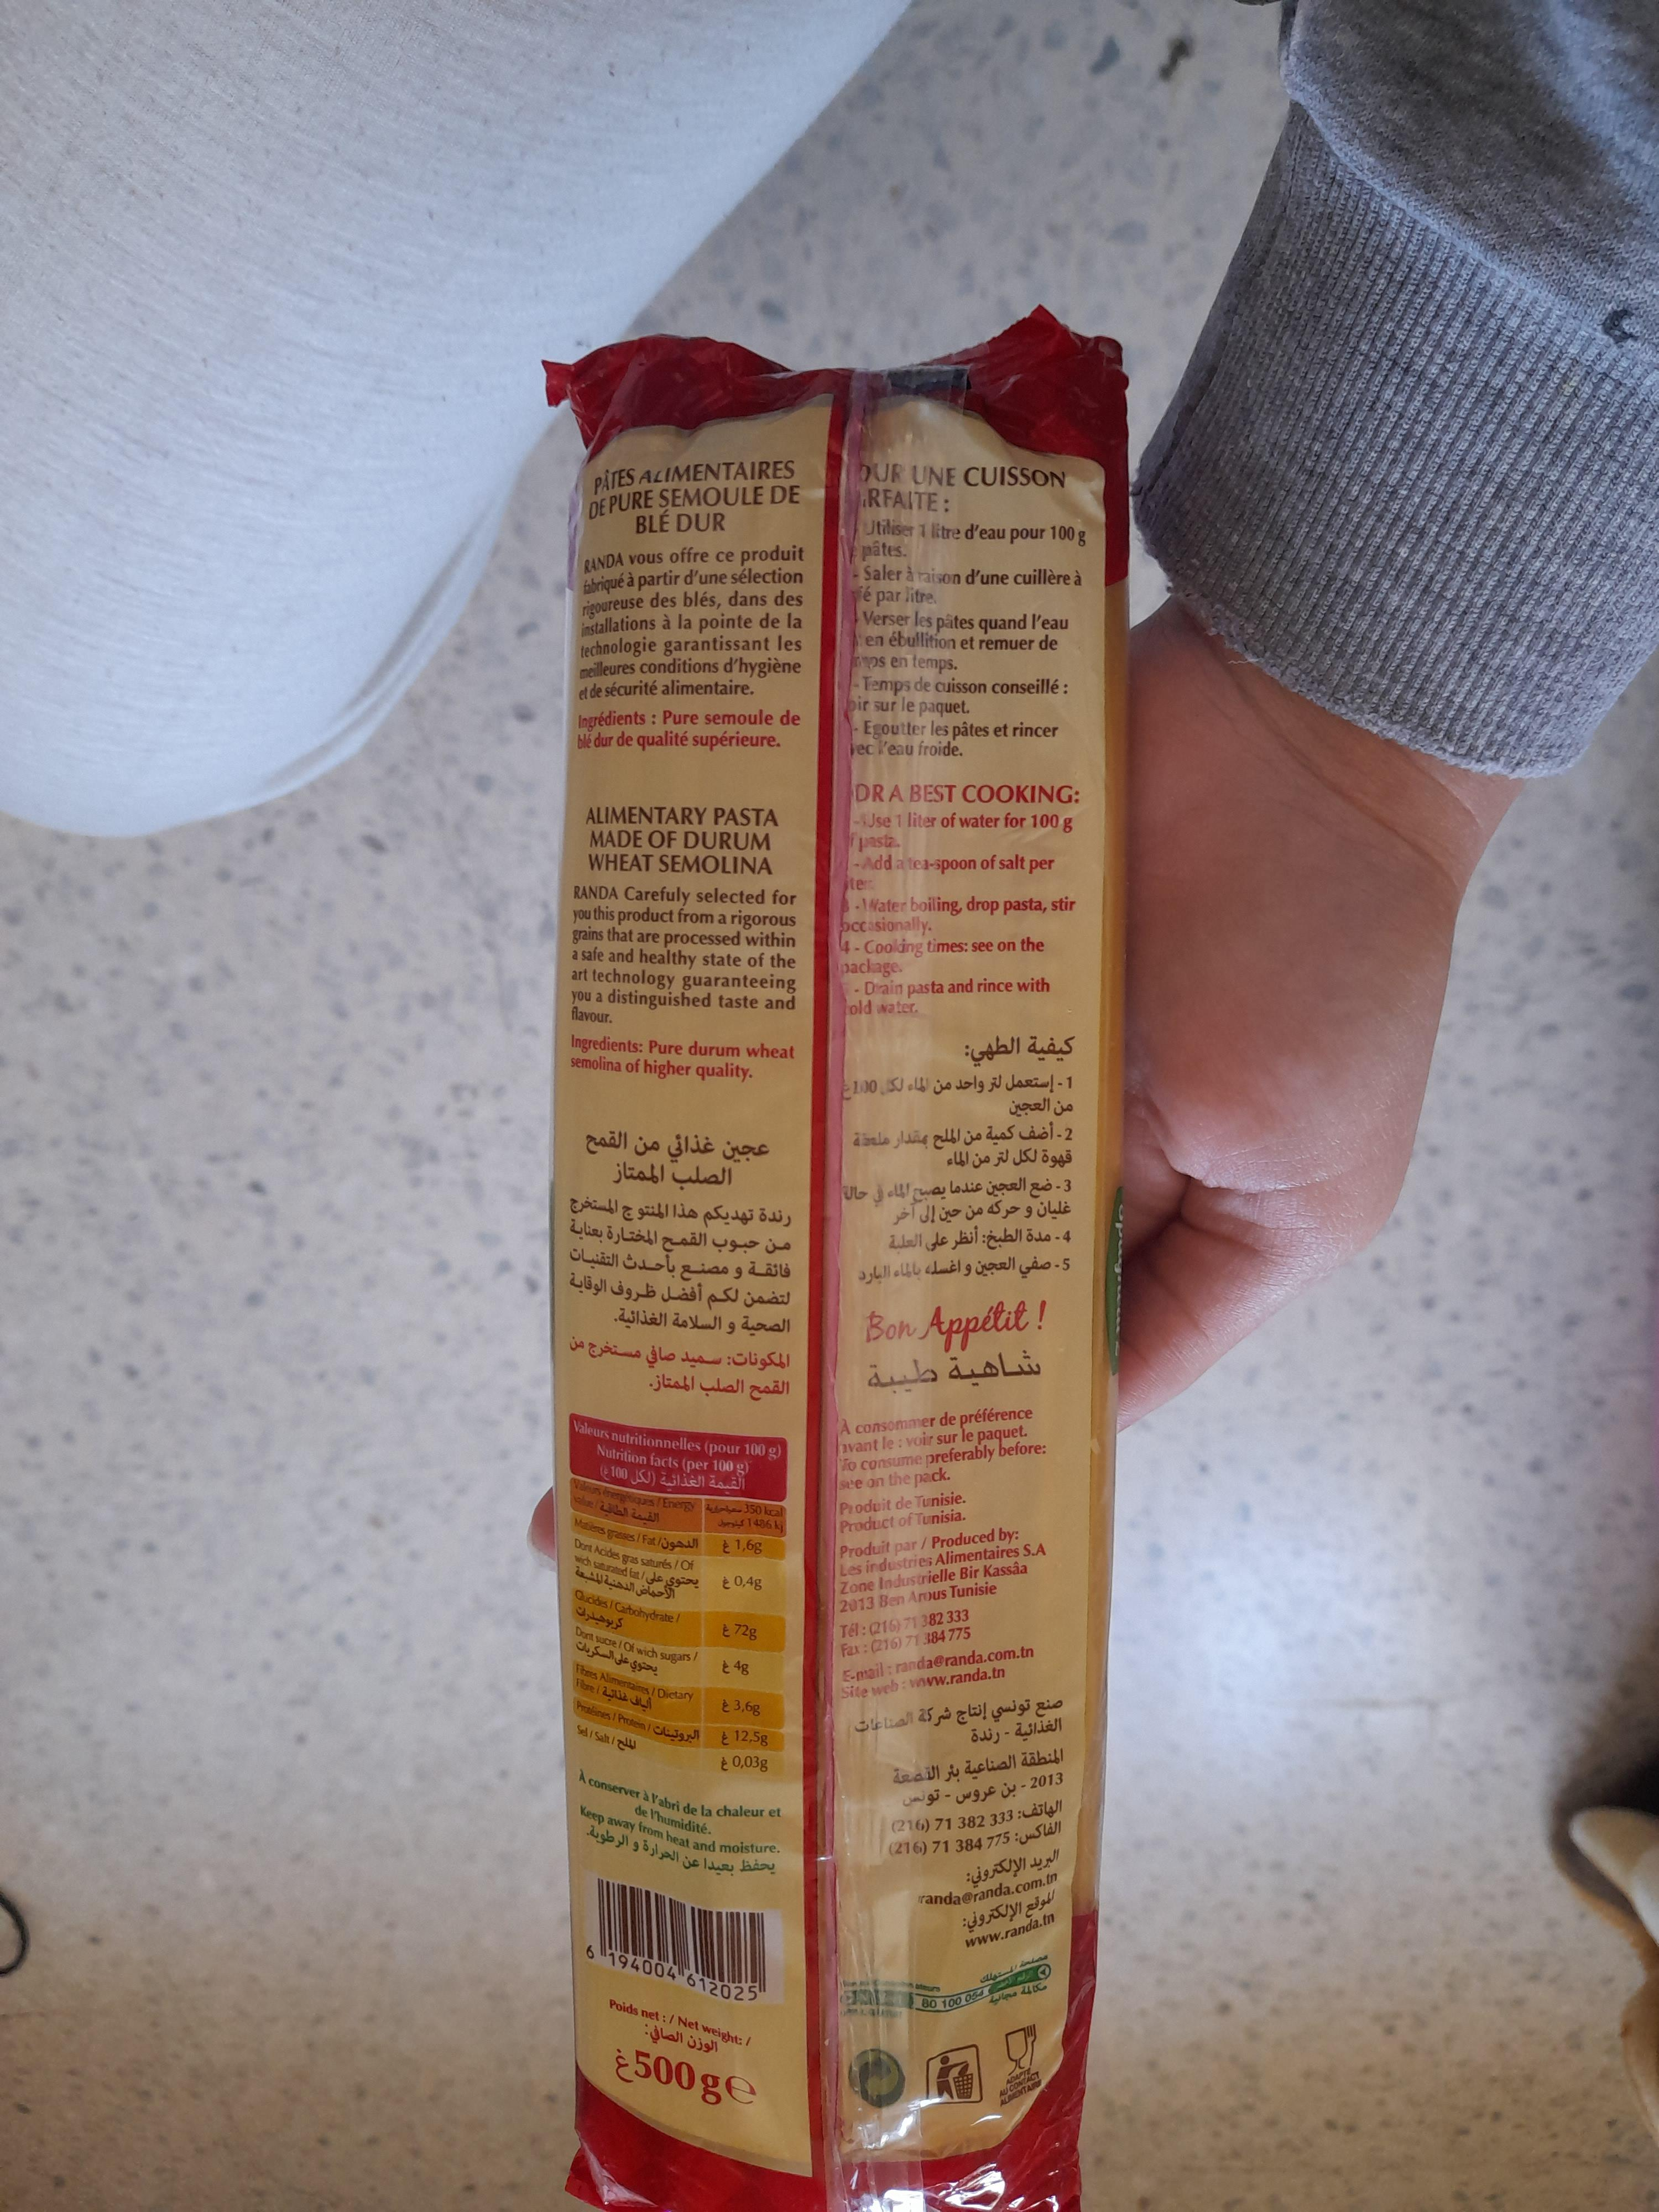Spaghetti: (1100, 1362, 1364, 2209)
